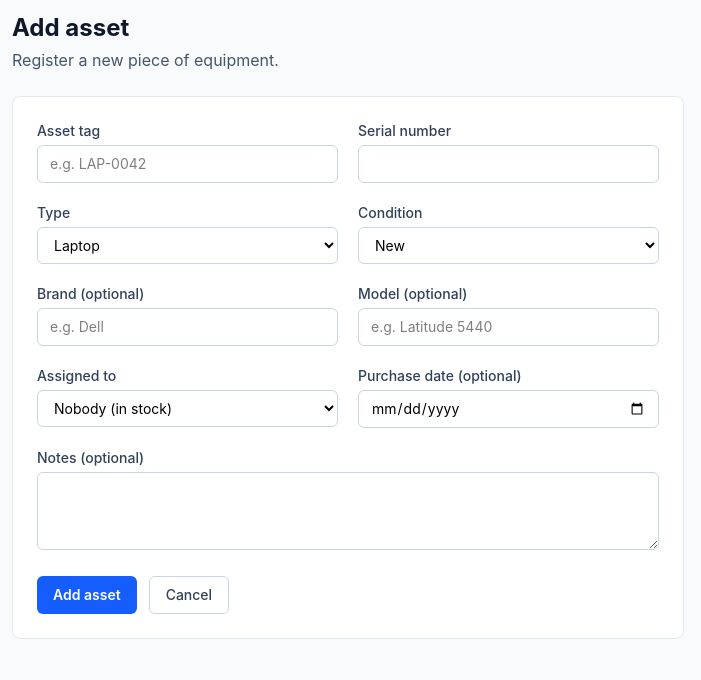
Test case: AssetFormPage: add › requires asset tag and serial number
The width and height of the screenshot is (701, 680).
What coordinates should you click on to do the following:
click the button "Add asset"
I would click on:
 (87, 595)
Its box is [37,576,137,614].
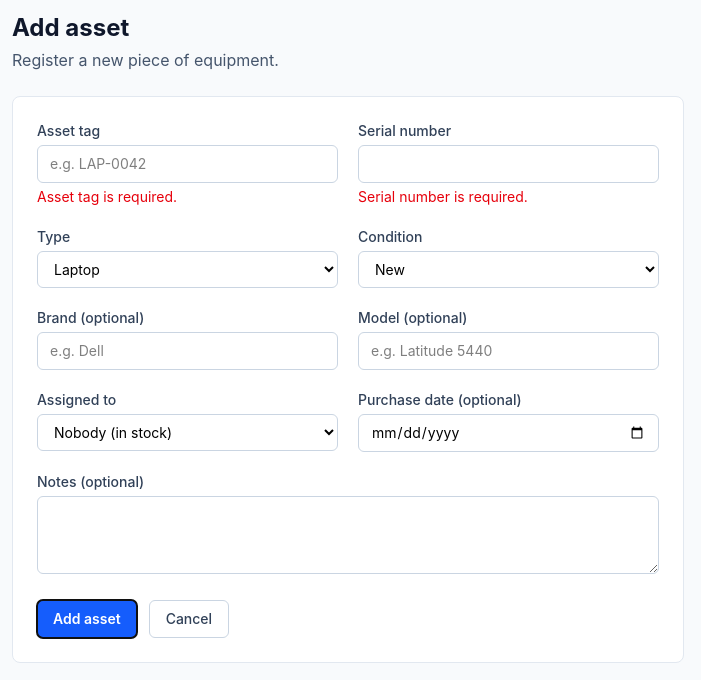
Result: the text "Asset tag is required." is shown at [37,188,177,205]
Result: the text "Serial number is required." is shown at [358,188,528,205]
